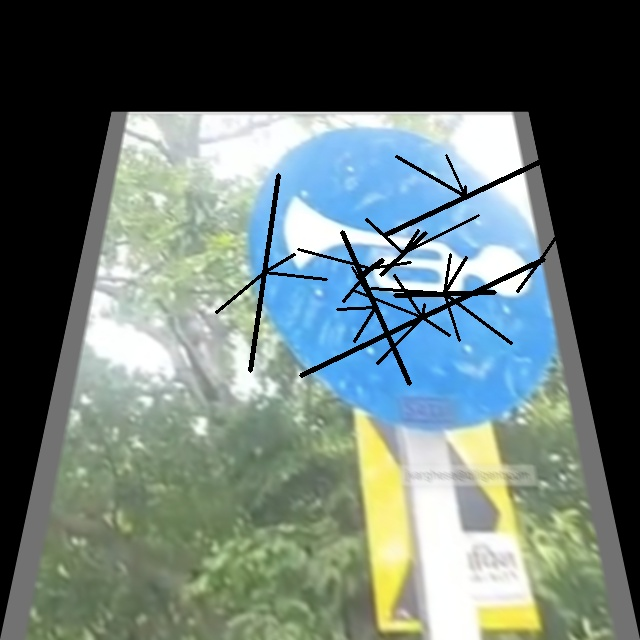Compulsory_Sound_Horn: (249, 152, 556, 384)
